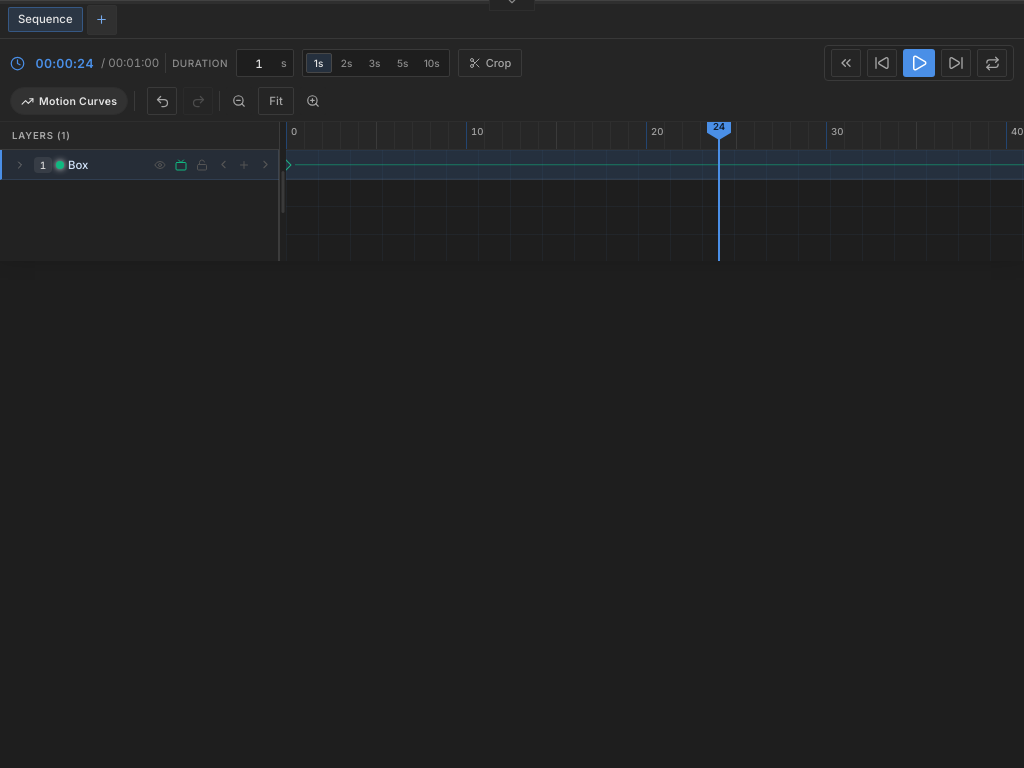
Test: K1 — deactivation asks, cancels clean, confirms atomic (D2) › deactivation asks BEFORE touching anything and names the property
Click the button with class "ue-expand-btn".
click(20, 164)  # box [10,154,30,174]
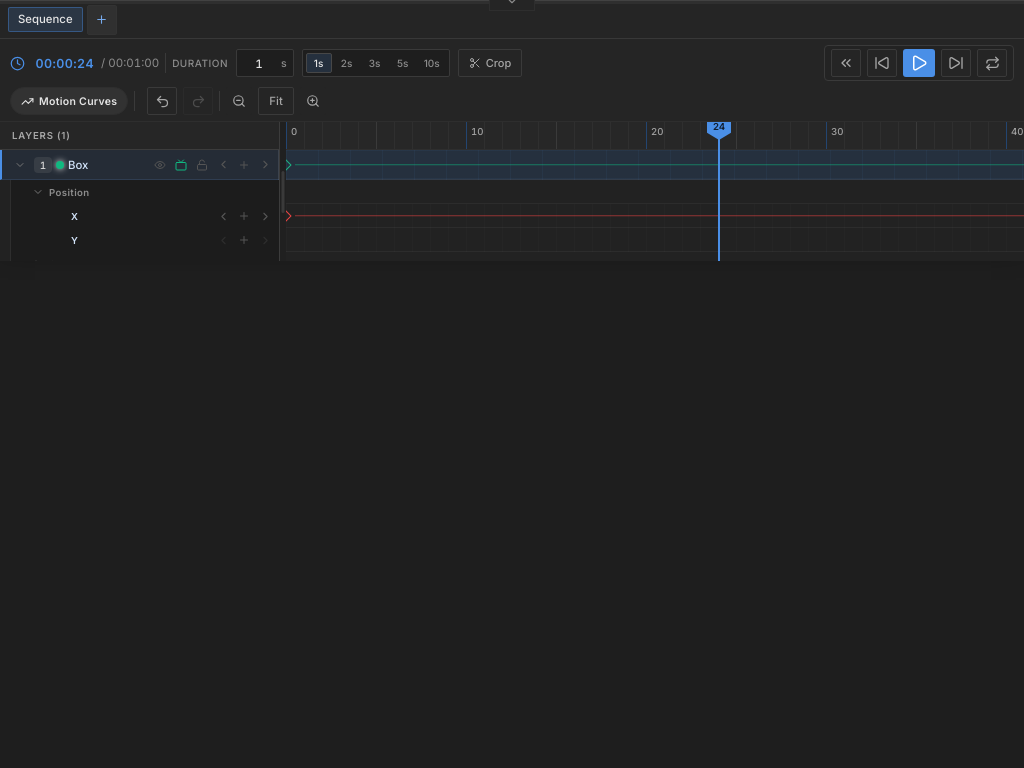
Right-click the element showing "X".
right_click(74, 216)  # box [71,206,275,226]
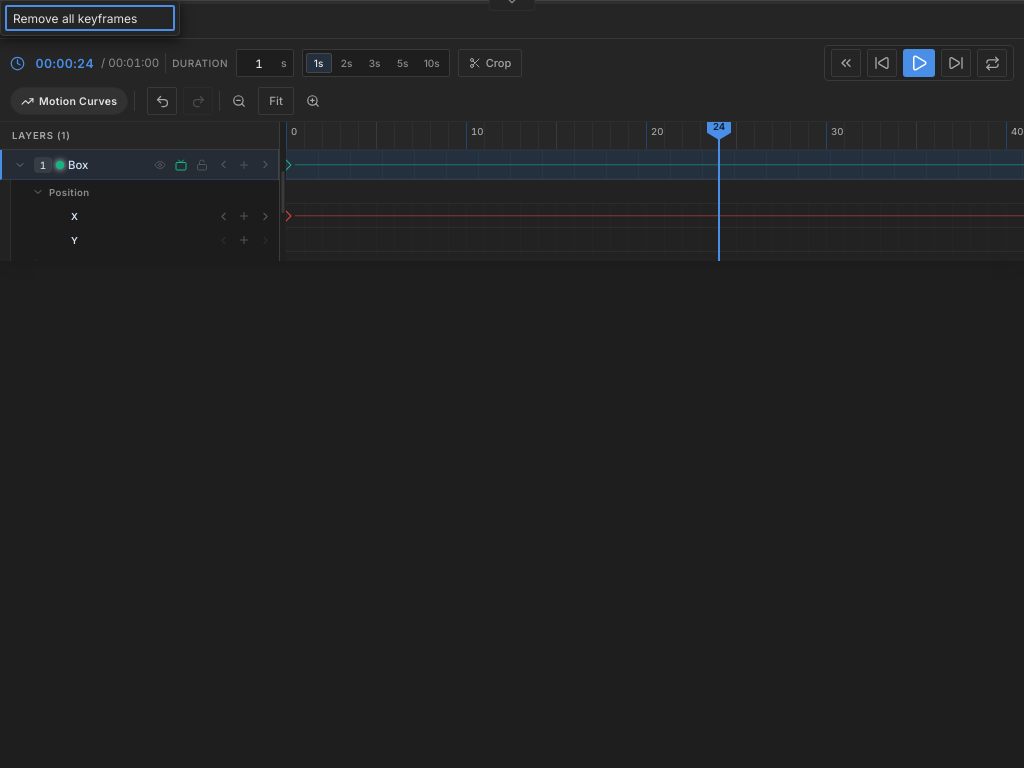
Click the menu item "Remove all keyframes".
click(90, 18)  # box [5,5,175,31]
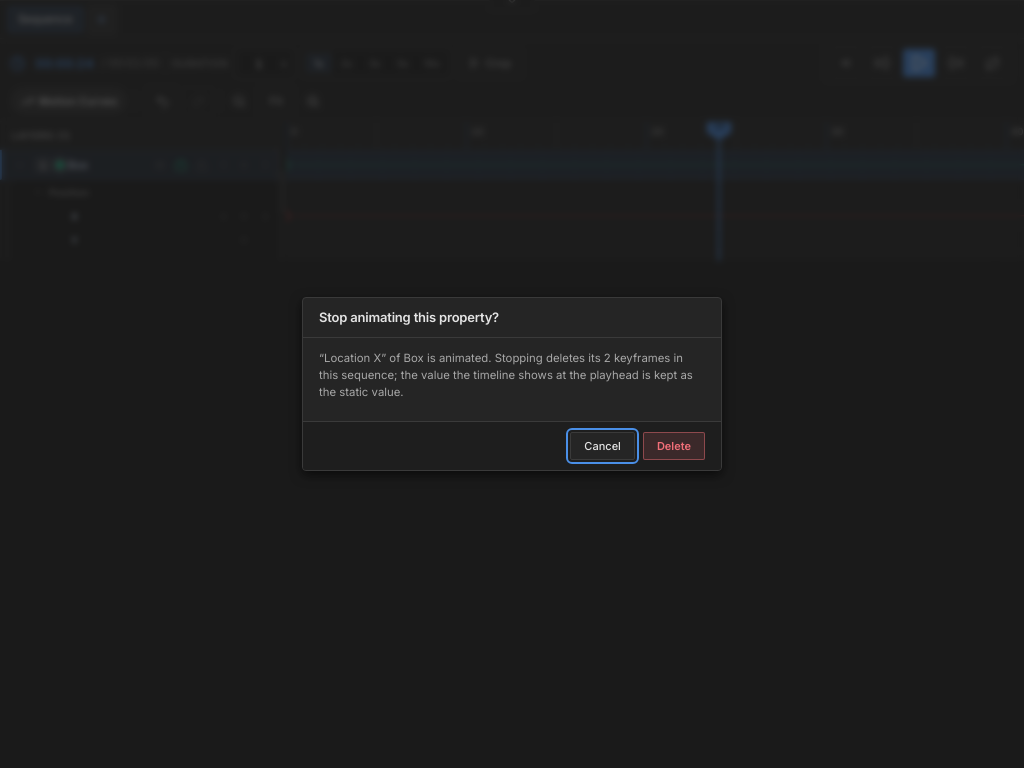
expect the dialog with class "confirmation-dialog" is shown: met, box [302,297,722,471]
